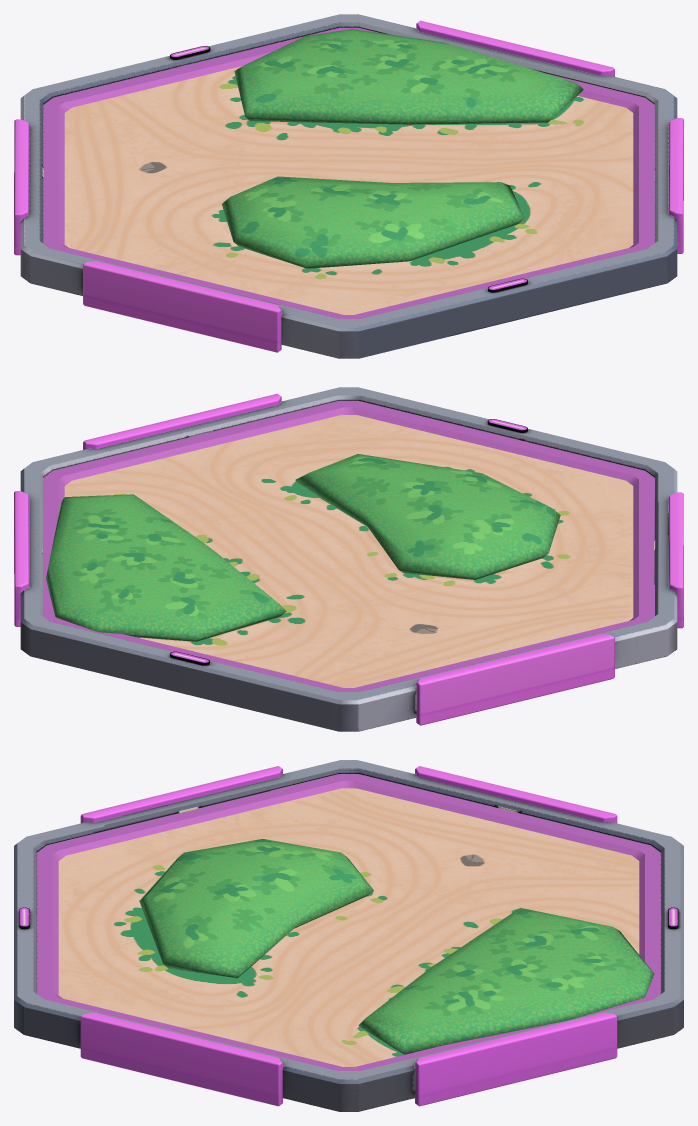
The model's file is HexagonLargeVIP03_Art.glb.
3 views of the same model, one above another, from view 1: azimuth 30°, elevation 25°; view 2: azimuth 150°, elevation 25°; view 3: azimuth 270°, elevation 25° (orthographic). The views are drawn at different scales.
Visible parts, largest first — view 1: HexagonLargeVIP03_Art; view 2: HexagonLargeVIP03_Art; view 3: HexagonLargeVIP03_Art.
Part boxes in pixels (bbox=[...]): HexagonLargeVIP03_Art: bbox=[14, 14, 683, 358]; HexagonLargeVIP03_Art: bbox=[14, 387, 683, 731]; HexagonLargeVIP03_Art: bbox=[14, 760, 683, 1111].
Size of the model in its own units: 31.52 by 2.64 by 27.7.
Materials: 2 (2 with a texture image).
